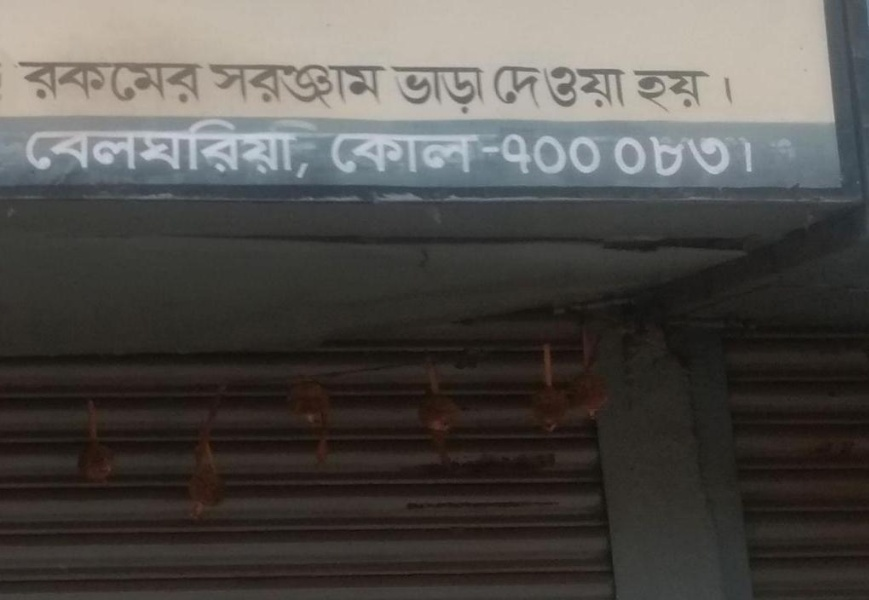text: (33, 117, 48, 179), (49, 117, 64, 179), (65, 117, 80, 179), (81, 117, 96, 179), (97, 117, 112, 179), (113, 117, 128, 179), (129, 117, 144, 179), (145, 117, 160, 179), (161, 117, 176, 179), (177, 117, 192, 179), (193, 117, 208, 179), (209, 117, 224, 179), (225, 117, 240, 179), (241, 117, 256, 179), (257, 117, 272, 179), (273, 117, 288, 179), (289, 117, 304, 179), (513, 130, 528, 183), (529, 130, 544, 183), (545, 130, 560, 183), (561, 130, 576, 183), (577, 130, 592, 183), (593, 130, 608, 183), (609, 130, 624, 183), (625, 130, 640, 183), (641, 130, 656, 183), (657, 130, 672, 183), (673, 130, 688, 183), (689, 130, 704, 183), (705, 130, 720, 183), (721, 130, 736, 183), (737, 130, 752, 183), (401, 66, 416, 116), (417, 66, 432, 116), (433, 66, 448, 116), (449, 66, 464, 116), (465, 66, 480, 116), (498, 130, 512, 183), (641, 70, 656, 117), (657, 70, 672, 117), (673, 70, 688, 117), (689, 70, 704, 117), (705, 70, 720, 117), (209, 64, 224, 110), (225, 64, 240, 110), (241, 64, 256, 110), (257, 64, 272, 110), (273, 64, 288, 110), (289, 64, 304, 110), (305, 64, 320, 110), (321, 64, 336, 110), (337, 64, 352, 110), (353, 64, 368, 110), (369, 64, 384, 110), (21, 117, 32, 179), (497, 65, 512, 110), (513, 65, 528, 110), (529, 65, 544, 110), (545, 65, 560, 110), (561, 65, 576, 110), (577, 65, 592, 110), (593, 65, 608, 110), (609, 65, 624, 110), (337, 132, 352, 176), (353, 132, 368, 176), (369, 132, 384, 176), (385, 132, 400, 176), (401, 132, 416, 176), (417, 132, 432, 176), (433, 132, 448, 176), (449, 132, 464, 176), (465, 132, 480, 176), (481, 132, 496, 176), (33, 61, 48, 104), (49, 61, 64, 104), (65, 61, 80, 104), (81, 61, 96, 104), (97, 61, 112, 104), (113, 61, 128, 104), (129, 61, 144, 104), (145, 61, 160, 104), (161, 61, 176, 104), (177, 61, 192, 104), (305, 117, 315, 179), (18, 61, 32, 104), (721, 70, 732, 117), (390, 66, 400, 116), (193, 61, 203, 104), (625, 65, 634, 110), (633, 70, 640, 117), (497, 132, 504, 176), (753, 130, 758, 183), (273, 118, 288, 132), (289, 118, 304, 132), (305, 118, 320, 132), (481, 66, 485, 116), (333, 132, 336, 176), (321, 118, 328, 132), (385, 64, 386, 110), (495, 65, 496, 110), (269, 118, 272, 132)
